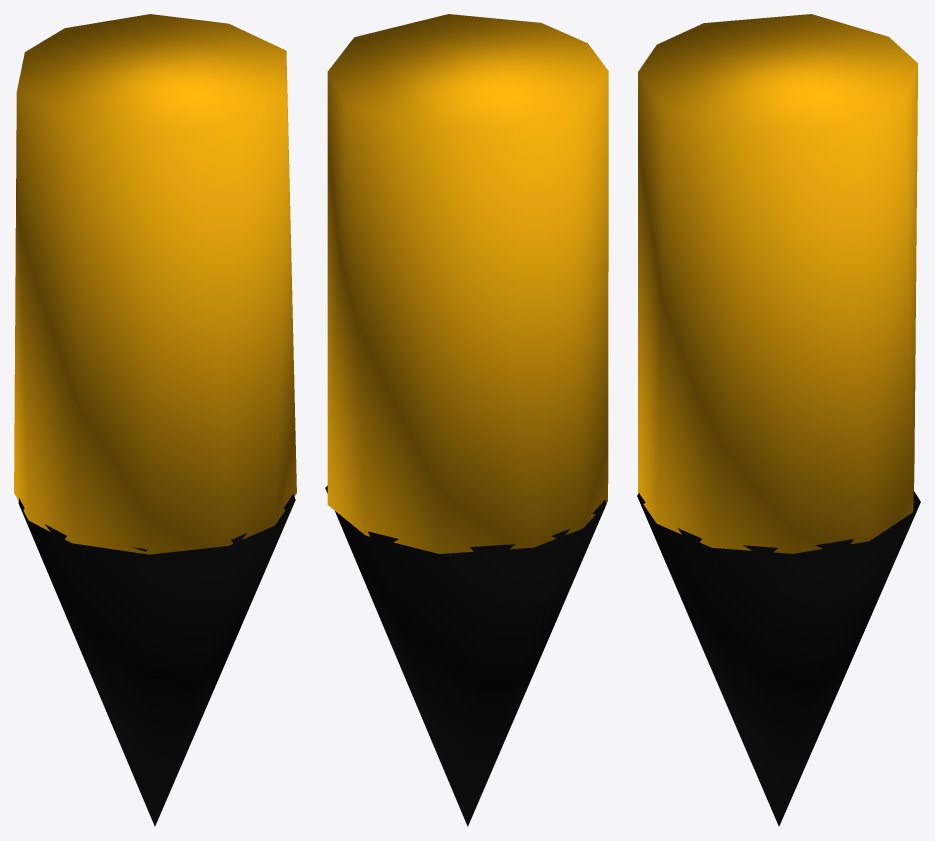
The model's file is drill.fbx.
3 renders of one model, left to right at view 1: azimuth 30°, elevation 25°; view 2: azimuth 150°, elevation 25°; view 3: azimuth 270°, elevation 25°, orthographic.
Parts seen in each view (by area): view 1: Cone; view 2: Cone; view 3: Cone.
Part boxes in pixels (bbox=[...]): Cone: bbox=[14, 14, 296, 826]; Cone: bbox=[325, 14, 608, 826]; Cone: bbox=[637, 14, 920, 826].
Size of the model in its own units: 122 by 358 by 122.
